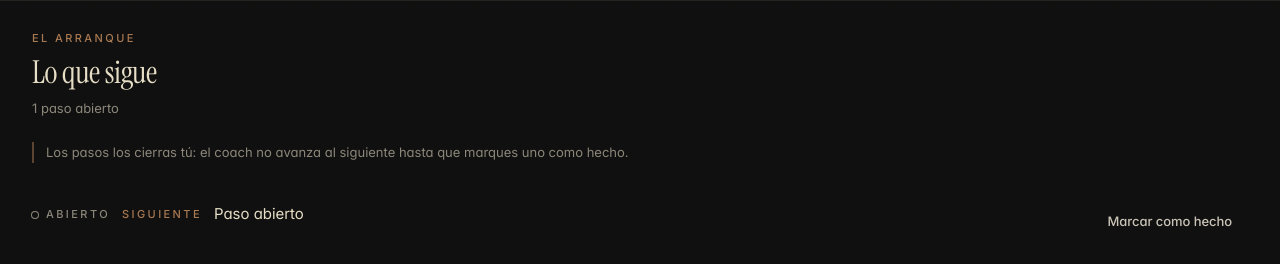
Scenario: ArranqueSection — the steps the coach and the person agreed on › shows the API's error on the step and keeps it unchanged
Click the button "Marcar como hecho": [1170, 221] box [1092,203,1248,239]
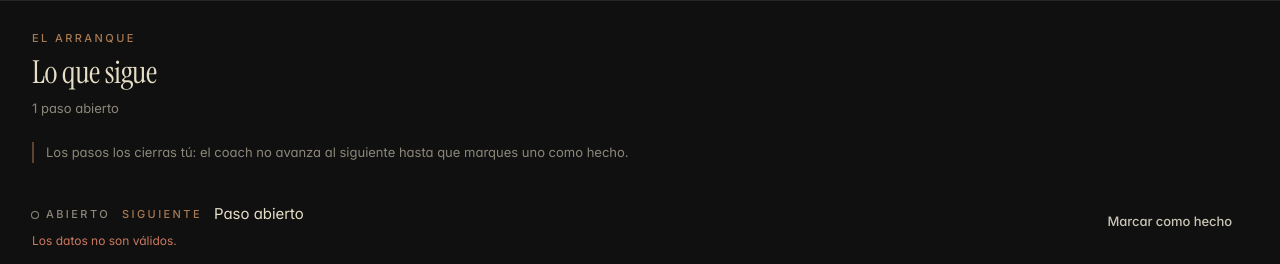
Check: the text "Los datos no son válidos." is shown, box [32,233,177,248]
